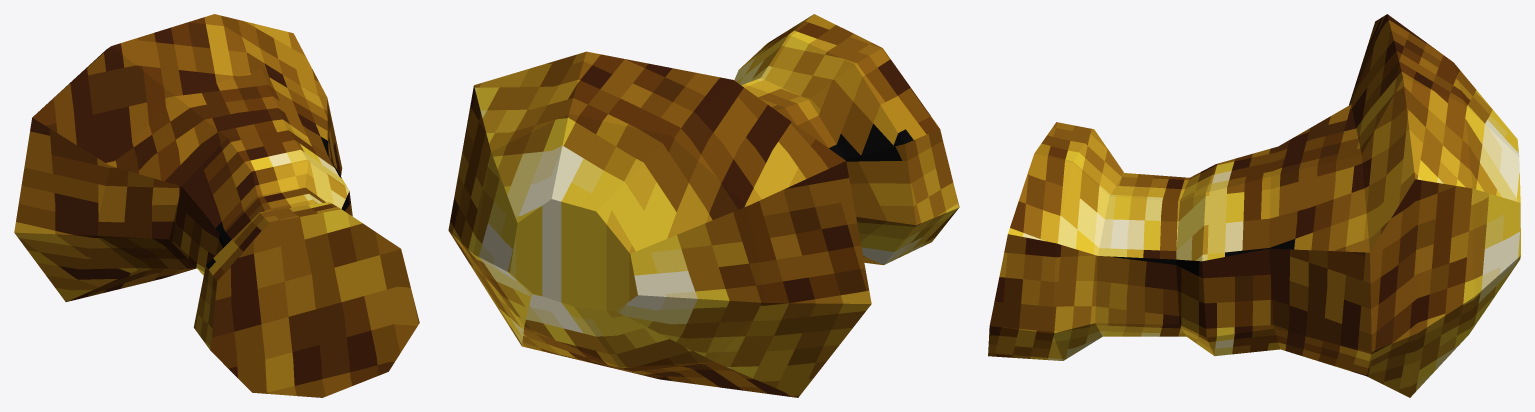
Rendered from hay_stack1023x05.gltf.
The picture shows the model from 3 angles, left to right: view 1: azimuth 30°, elevation 25°; view 2: azimuth 150°, elevation 25°; view 3: azimuth 270°, elevation 25°; orthographic projection. The views are drawn at different scales.
Visible parts, largest first — view 1: hay_stack1023x05; view 2: hay_stack1023x05; view 3: hay_stack1023x05.
Boxes of the visible parts, left/top/right/bottom form: hay_stack1023x05: left=14, top=14, right=419, bottom=397; hay_stack1023x05: left=448, top=14, right=959, bottom=397; hay_stack1023x05: left=988, top=14, right=1520, bottom=397.
Size of the model in its own units: 3.56 by 2.58 by 4.18.
Materials: 1 (1 with a texture image).
